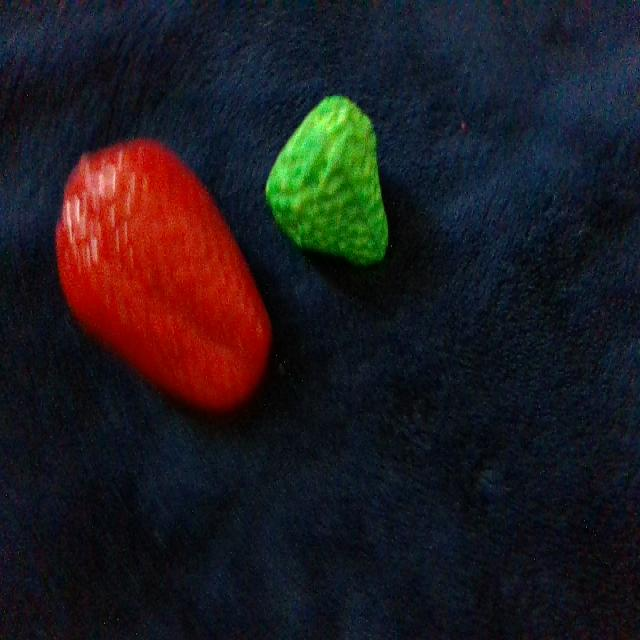grande_roja: (57, 140, 270, 409)
verde: (266, 97, 387, 264)
